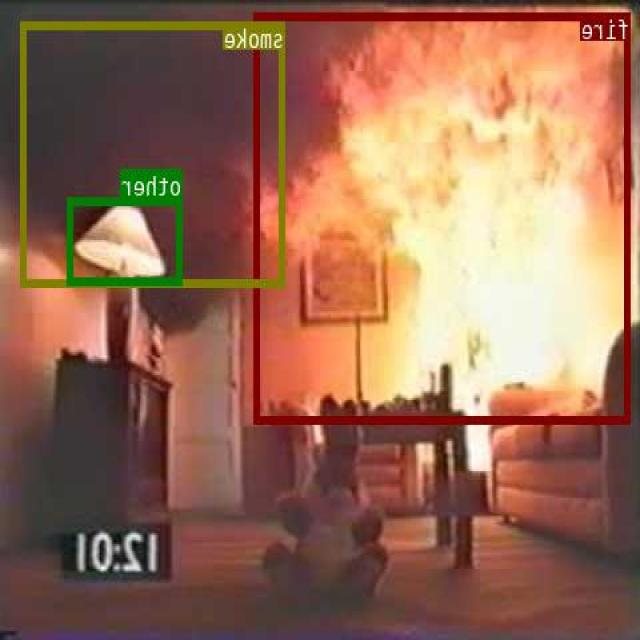fire: (255, 11, 631, 422)
other: (70, 196, 184, 284)
smoke: (22, 19, 285, 286)
